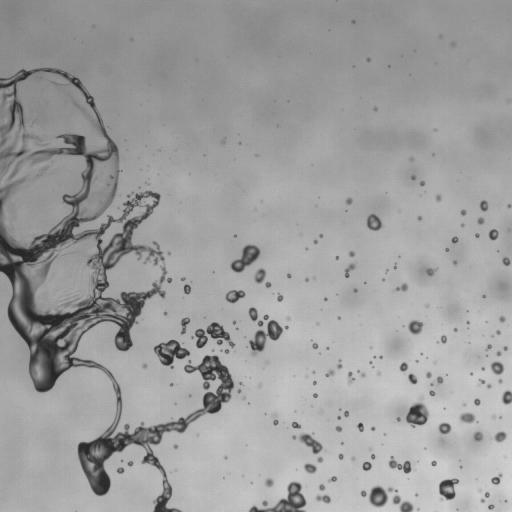droplet: (194, 322, 234, 348), (153, 340, 190, 368), (230, 244, 260, 272), (405, 396, 429, 427), (439, 478, 458, 500), (366, 214, 383, 230), (225, 290, 245, 303), (408, 320, 422, 334), (254, 268, 266, 283), (459, 412, 475, 423), (490, 361, 503, 374), (438, 422, 451, 434), (493, 431, 506, 442), (501, 390, 511, 404), (315, 494, 330, 503), (491, 473, 502, 484), (304, 463, 316, 473), (488, 229, 498, 240), (408, 373, 417, 384), (395, 283, 407, 291), (399, 362, 408, 372), (473, 431, 482, 441), (480, 200, 488, 211), (362, 461, 371, 470), (264, 478, 273, 487), (502, 257, 511, 265), (325, 369, 334, 377), (426, 268, 436, 275), (436, 376, 443, 384), (184, 284, 190, 293), (357, 422, 363, 431), (477, 217, 484, 224), (451, 236, 458, 243), (277, 293, 283, 301), (440, 335, 446, 343), (292, 422, 300, 428), (337, 360, 342, 369), (345, 198, 352, 204), (312, 342, 318, 349), (474, 398, 480, 405), (117, 467, 124, 473), (329, 476, 336, 482), (318, 484, 325, 490), (460, 209, 466, 215), (499, 316, 505, 322), (429, 390, 435, 396), (436, 194, 441, 201), (486, 344, 491, 351), (478, 379, 485, 384), (349, 251, 354, 257), (426, 372, 431, 378), (335, 426, 341, 431), (338, 453, 343, 459), (420, 181, 425, 186), (265, 282, 270, 287), (263, 314, 268, 319), (496, 351, 501, 356), (317, 457, 322, 462), (128, 461, 133, 466), (431, 460, 436, 465), (484, 492, 489, 497), (488, 504, 493, 509), (223, 349, 229, 353), (344, 411, 348, 417), (453, 260, 457, 265), (142, 363, 146, 368), (486, 384, 491, 388), (411, 175, 415, 179), (417, 216, 421, 220), (475, 233, 479, 237), (287, 274, 291, 278), (353, 288, 357, 292), (286, 316, 290, 320), (496, 330, 500, 334), (503, 346, 507, 350), (361, 373, 365, 377), (498, 379, 502, 383), (313, 393, 317, 397), (371, 426, 375, 430), (173, 444, 177, 448), (480, 498, 484, 502), (374, 107, 377, 111), (410, 157, 413, 161), (507, 204, 511, 207), (180, 277, 184, 280), (232, 321, 236, 324), (453, 328, 457, 331), (239, 382, 243, 385), (397, 417, 400, 421), (371, 454, 374, 458), (351, 456, 354, 460), (367, 58, 370, 61), (319, 234, 322, 237), (314, 240, 317, 243), (335, 256, 338, 259), (305, 278, 308, 281), (164, 312, 167, 315), (481, 367, 484, 370), (313, 381, 316, 384), (170, 383, 173, 386), (430, 382, 433, 385), (259, 384, 262, 387), (237, 389, 240, 392), (337, 416, 340, 419), (394, 264, 396, 268), (352, 20, 354, 23), (434, 128, 436, 131), (461, 224, 464, 226), (446, 248, 448, 251), (482, 295, 485, 297), (324, 298, 327, 300), (426, 304, 428, 307), (377, 372, 380, 374), (463, 403, 465, 406), (167, 252, 169, 254), (382, 278, 384, 280), (467, 321, 469, 323), (380, 356, 382, 358), (470, 373, 472, 375)
ligament: (0, 78, 231, 511), (248, 481, 306, 511), (360, 485, 413, 511), (249, 320, 288, 355), (292, 433, 322, 454), (388, 456, 411, 473), (248, 307, 263, 326), (180, 317, 190, 334), (34, 166, 47, 179), (344, 263, 355, 277), (347, 371, 354, 384), (273, 414, 278, 425), (52, 82, 60, 86)
